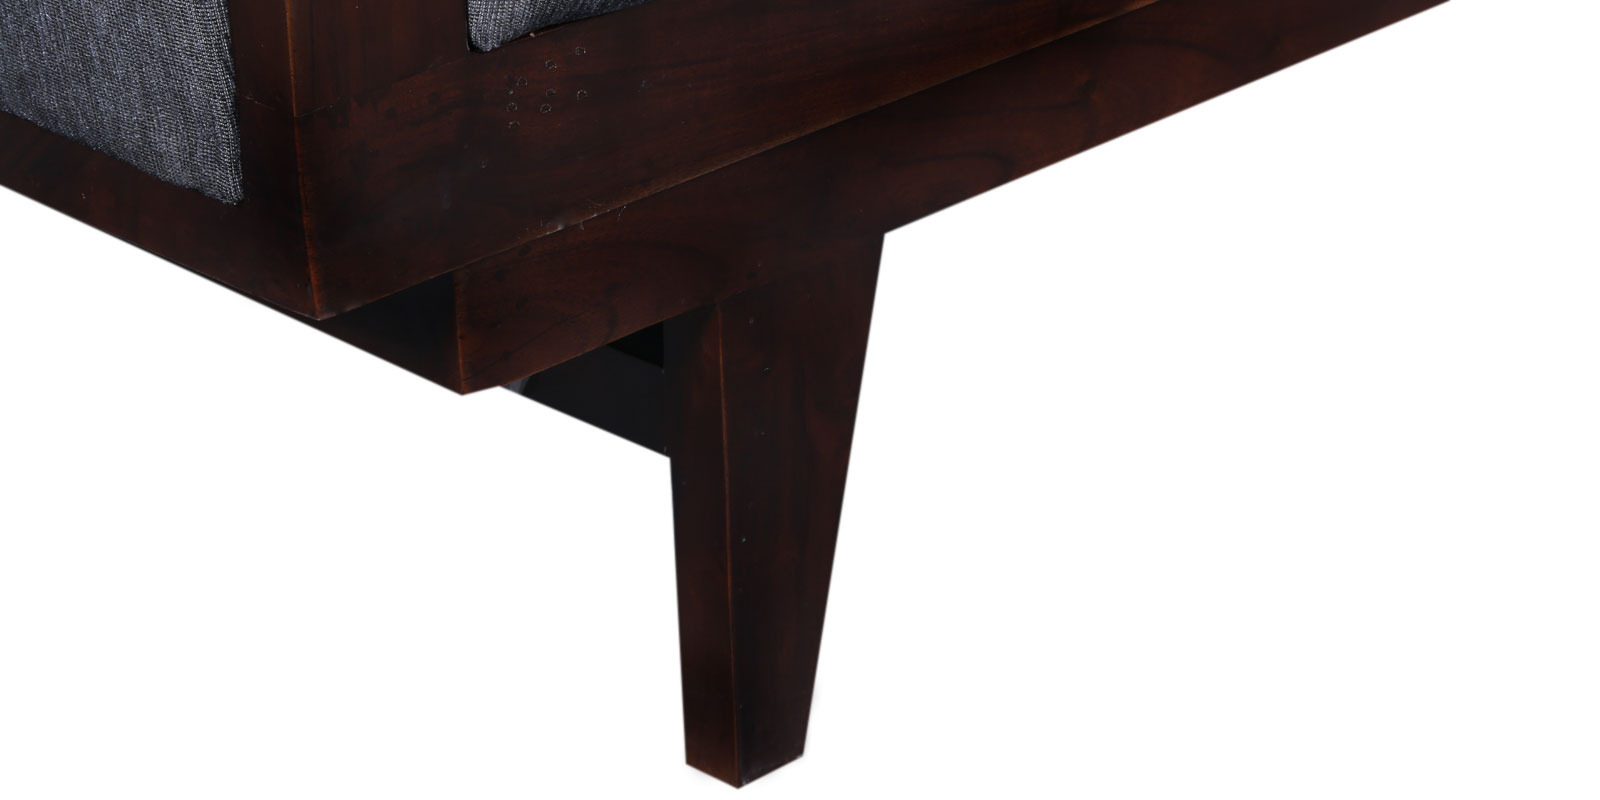Dillon Three Seater Sofa in Passion Mahogany Finish by Woodsworth: (1, 1, 1578, 789)
